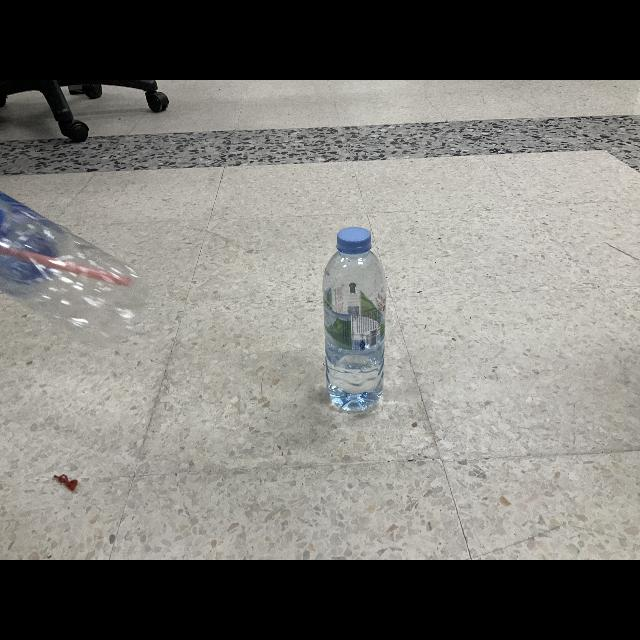plastic_bottle: (0, 187, 146, 351), (322, 227, 388, 415)
plastic_bottle_cap: (336, 227, 372, 256)
